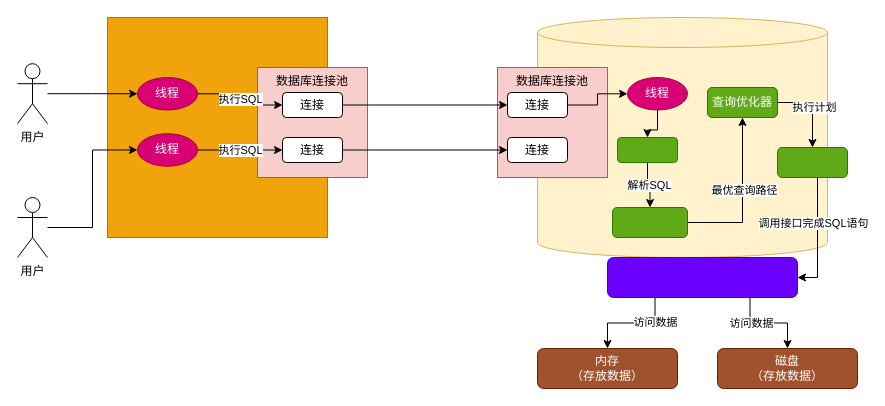
This 885x406 diagram has some shape labels left out. The shapes that lost their labels are listed below. From the top down, each one's box as (x1, y1, x2, y2) in pixels, then its label:
(106, 16, 328, 238): Tomcat
(536, 16, 828, 258): Mysql
(616, 136, 678, 162): SQL接口
(776, 146, 848, 178): 执行器
(612, 206, 688, 238): SQL解析器
(606, 256, 798, 298): 存储引擎
